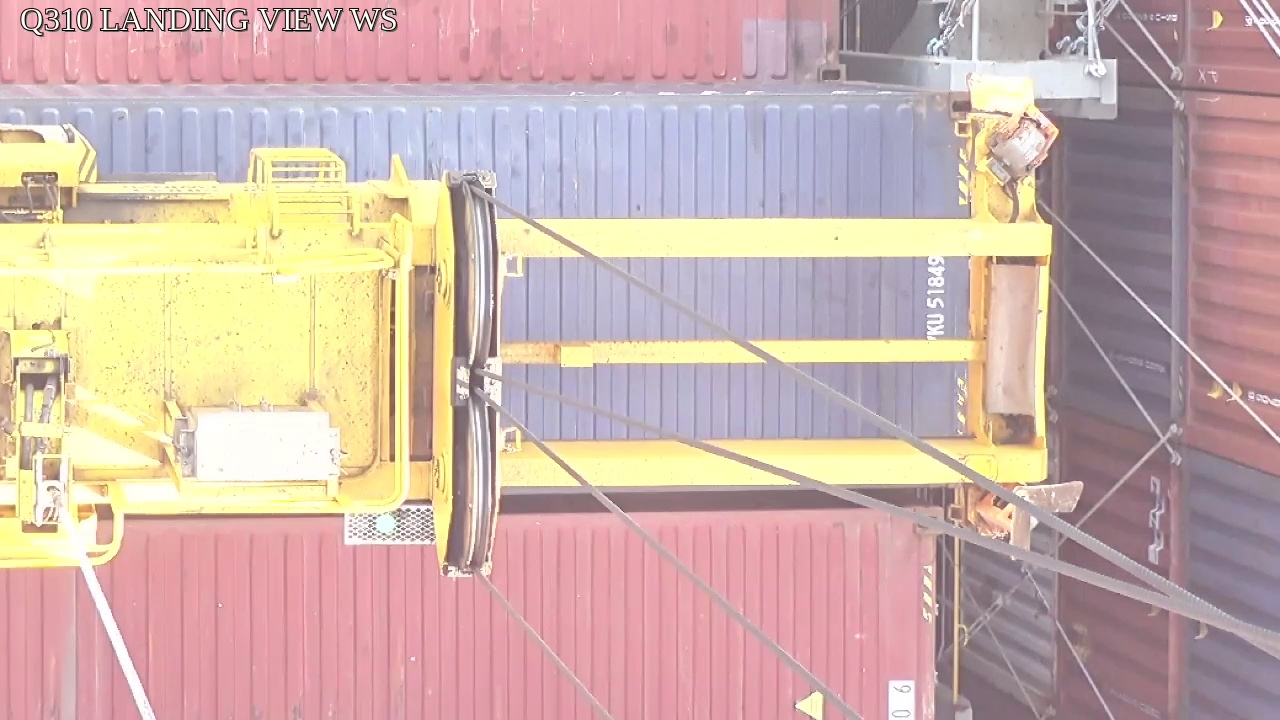right: (430, 169, 507, 578)
